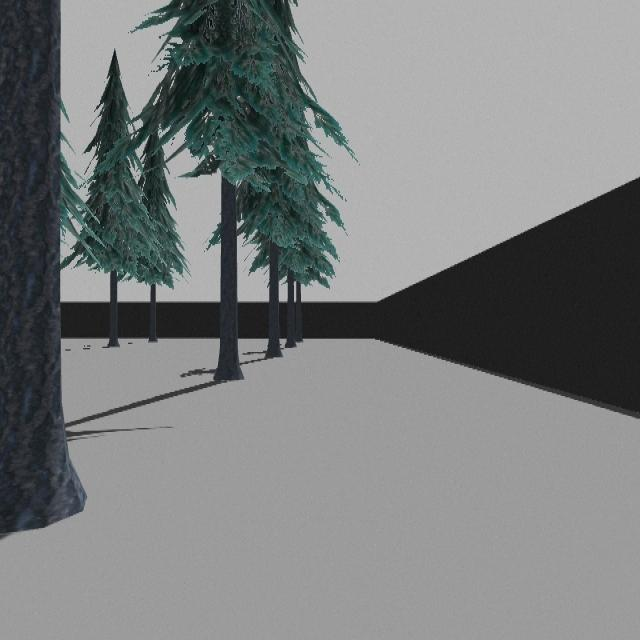tree: (95, 0, 357, 383), (0, 0, 87, 543)
